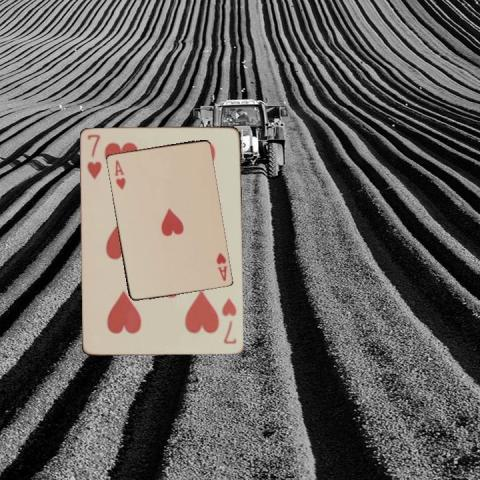7h: (219, 295, 239, 345), (85, 132, 103, 181)
Ah: (111, 156, 127, 190), (213, 249, 228, 283)
